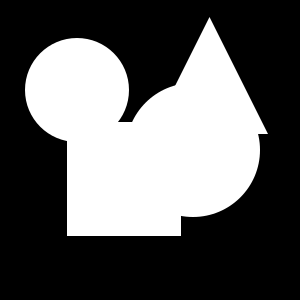circle: (67, 122, 181, 236)
rectangle: (126, 83, 260, 217), (25, 38, 129, 142)
triangle: (151, 17, 268, 134)
